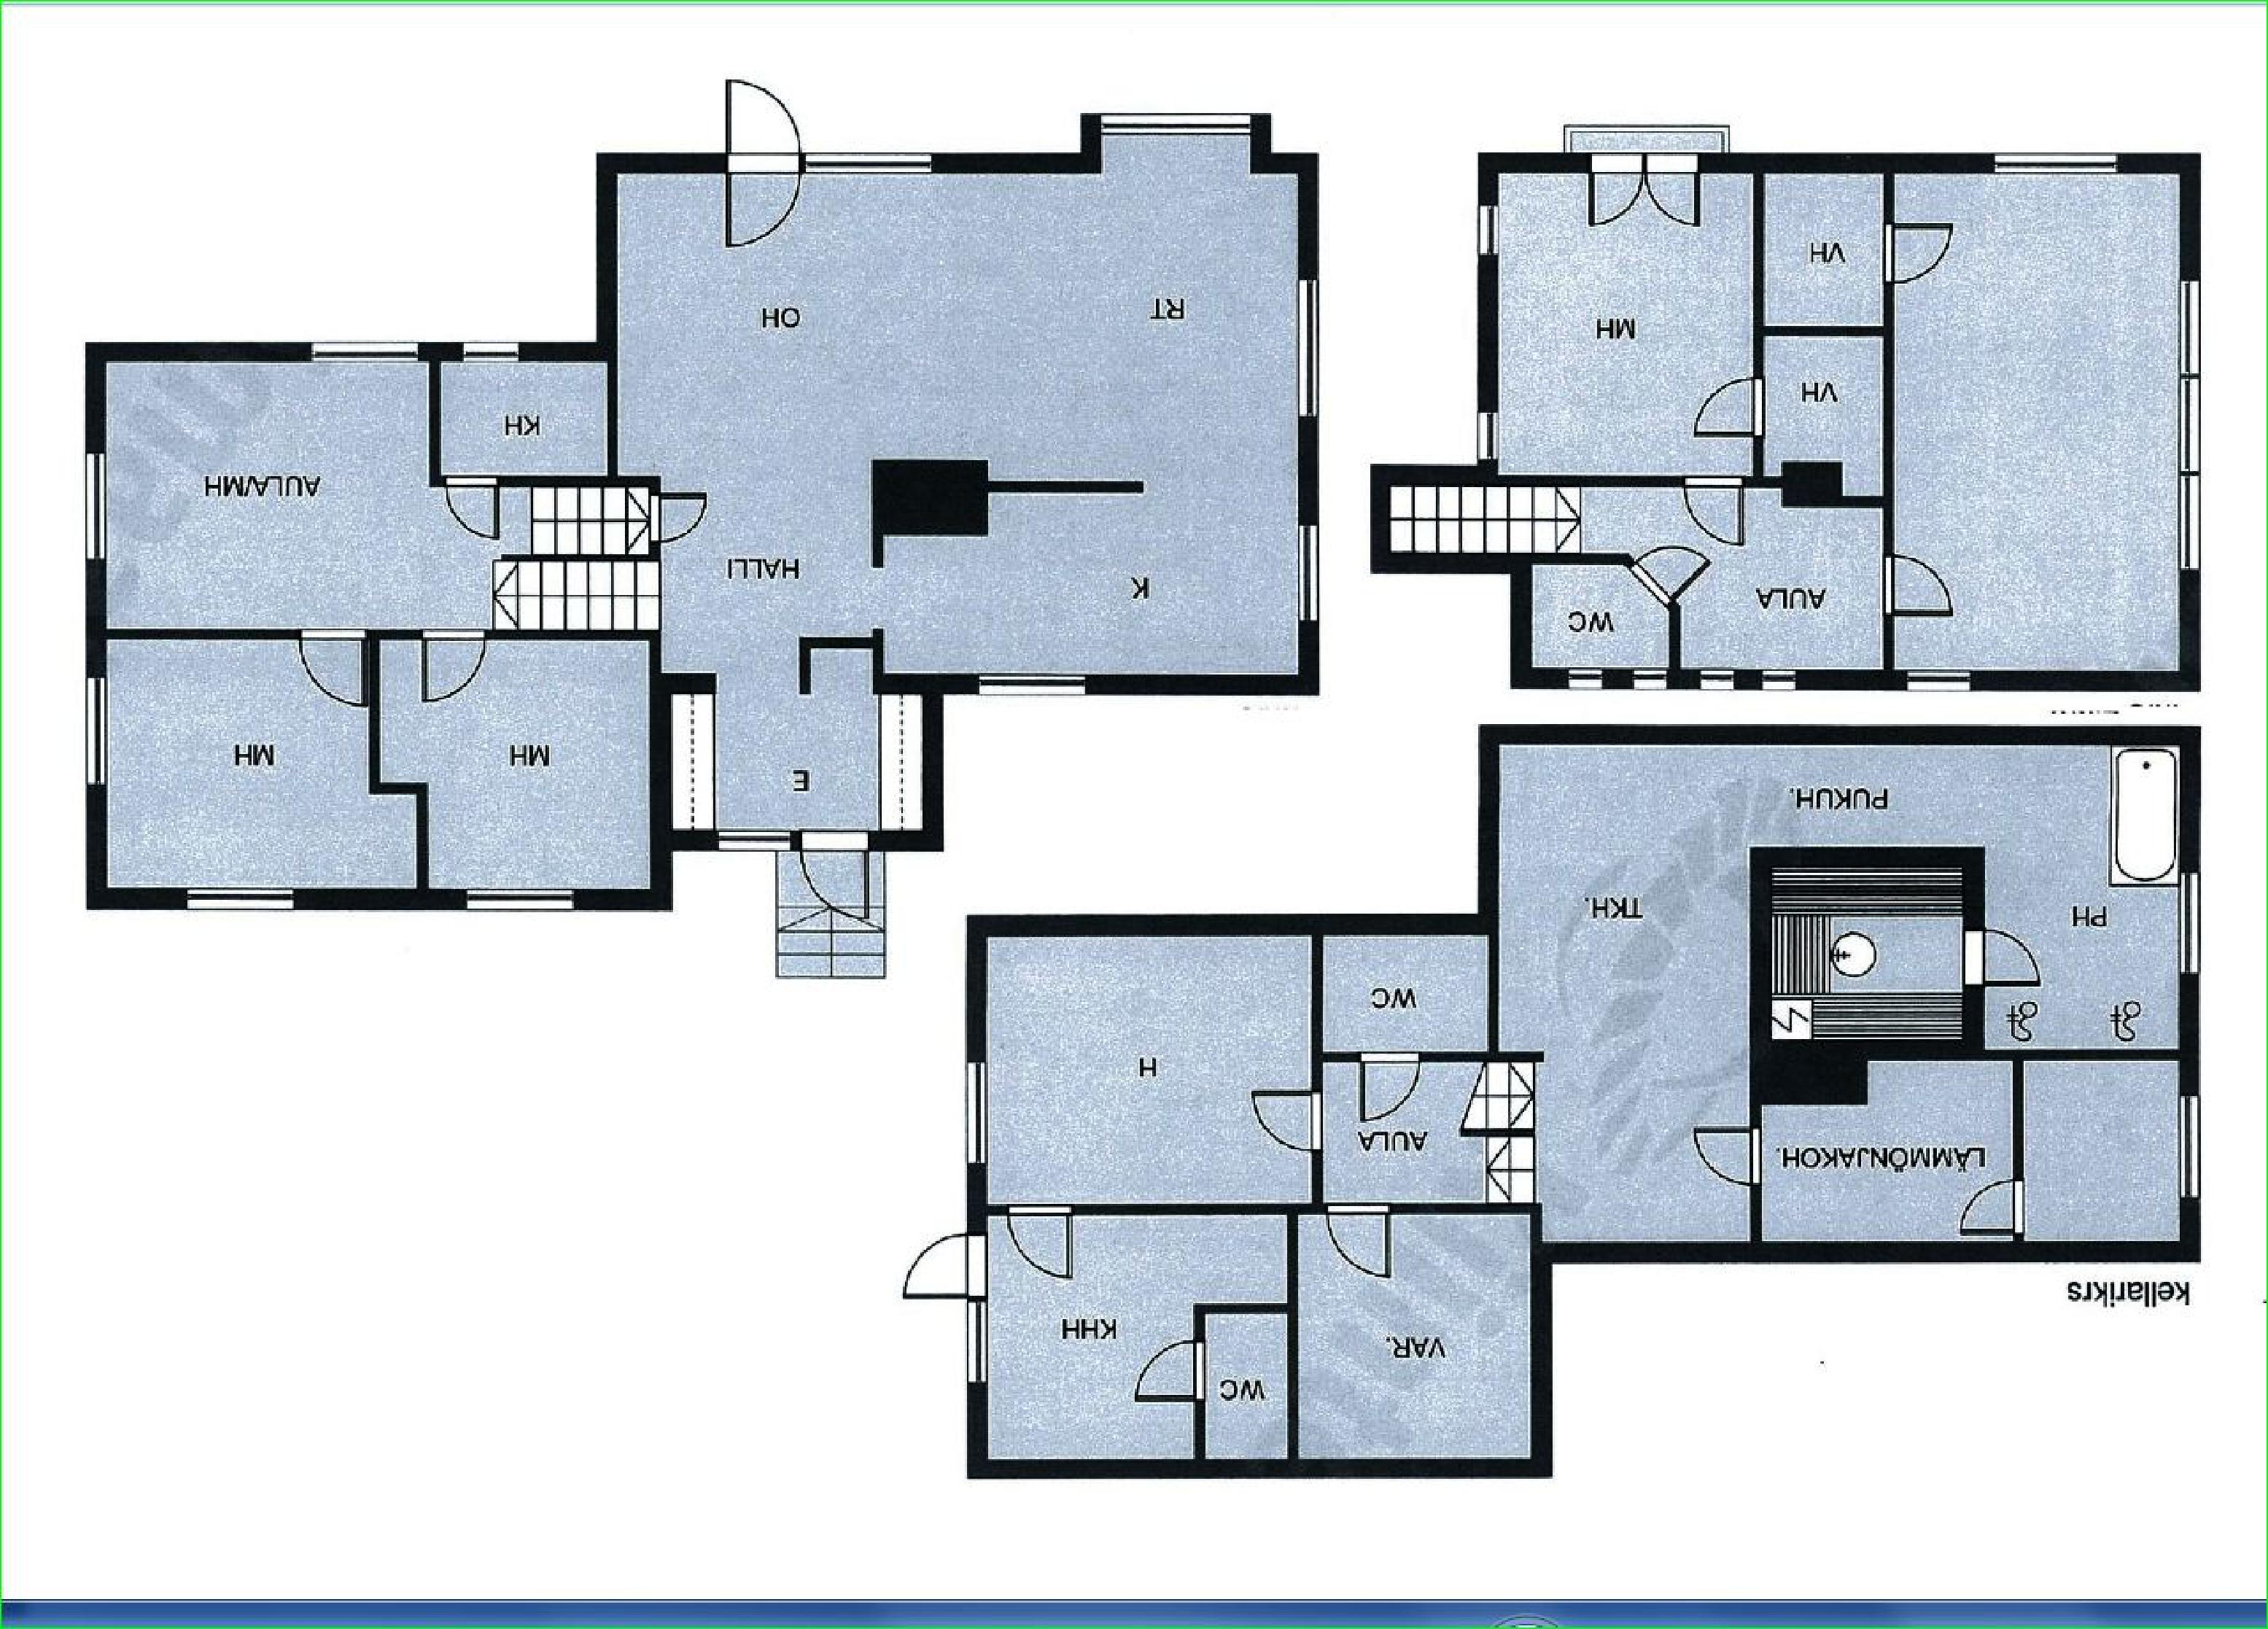door: (711, 74, 801, 240), (1588, 160, 1697, 236), (1227, 1090, 1329, 1154), (907, 1240, 990, 1317), (798, 833, 870, 918), (1879, 560, 1965, 627), (412, 623, 488, 699), (299, 623, 370, 703), (1680, 470, 1752, 546), (1002, 1210, 1079, 1275), (1877, 225, 1956, 287), (1324, 1203, 1389, 1275), (1940, 1182, 2030, 1233), (1363, 1048, 1423, 1124), (1638, 548, 1705, 611), (1130, 1354, 1206, 1409), (1690, 377, 1754, 442), (1962, 933, 2050, 979), (1692, 1129, 1763, 1185), (437, 472, 495, 539), (644, 491, 703, 548)
window: (2166, 278, 2199, 565), (451, 870, 581, 921), (2171, 865, 2208, 979), (1101, 106, 1240, 134), (1984, 146, 2106, 178), (81, 451, 114, 557), (188, 882, 299, 912), (808, 148, 933, 174), (83, 678, 114, 780), (967, 1060, 995, 1171), (981, 671, 1085, 697), (1300, 278, 1319, 416), (2180, 1097, 2205, 1205), (961, 1307, 993, 1382), (313, 342, 412, 363), (467, 340, 512, 372), (1477, 195, 1498, 250), (1307, 523, 1317, 611), (1477, 416, 1502, 453)
zone: (613, 166, 1292, 671), (1886, 169, 2173, 671), (1759, 729, 2176, 1048), (1495, 736, 1750, 1236), (113, 361, 497, 623), (991, 933, 1312, 1203), (1495, 169, 1759, 472), (111, 643, 410, 893), (990, 1213, 1287, 1458), (391, 625, 646, 889), (1525, 486, 1881, 674), (1296, 1210, 1530, 1460), (1752, 1057, 2025, 1242), (673, 689, 917, 828), (1771, 870, 1970, 1036), (1388, 479, 1743, 565), (2018, 1060, 2180, 1249), (1317, 1074, 1537, 1199), (507, 475, 671, 634), (1757, 166, 1881, 329), (1319, 926, 1486, 1036), (444, 356, 604, 467), (1763, 336, 1870, 486), (773, 851, 880, 970), (1204, 1321, 1296, 1456)
